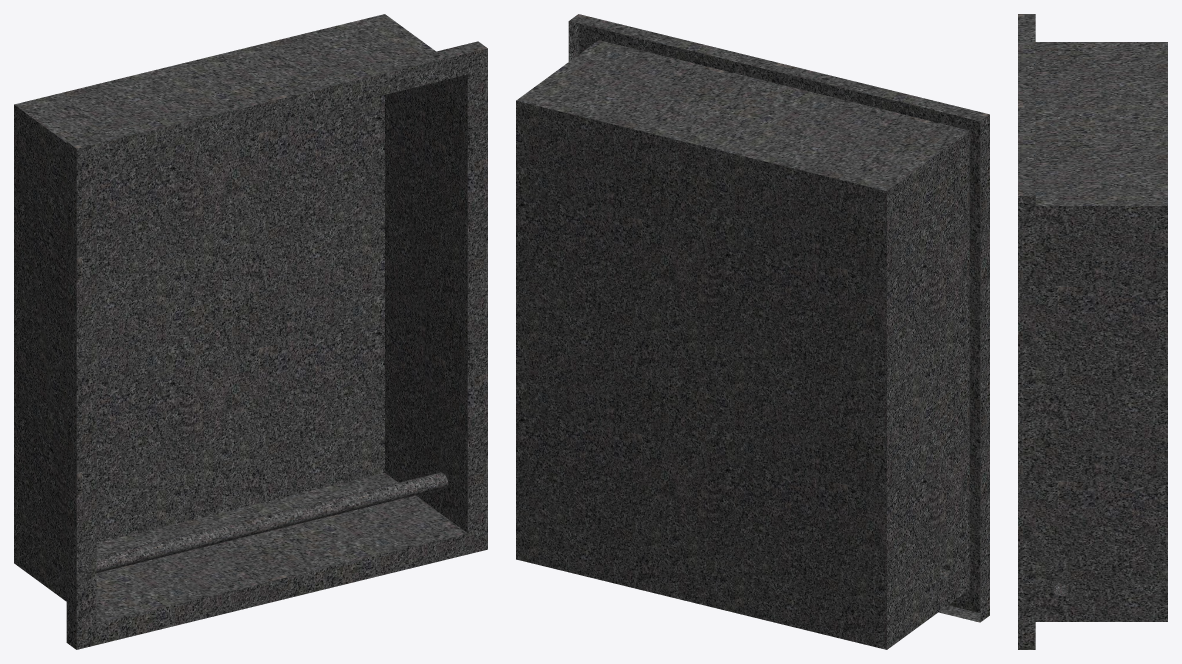
Rendered from wall-niche.glb.
3 views of the same model, side by side, from view 1: azimuth 30°, elevation 25°; view 2: azimuth 150°, elevation 25°; view 3: azimuth 270°, elevation 25° (orthographic). The views are drawn at different scales.
Parts seen in each view (by area): view 1: 3DGeom-1; view 2: 3DGeom-1; view 3: 3DGeom-1.
Part boxes in pixels (x1,y1,x2,y2): 3DGeom-1: (14, 14, 487, 649); 3DGeom-1: (516, 14, 989, 649); 3DGeom-1: (1018, 14, 1167, 649).
Size of the model in its own units: 0.488 by 0.568 by 0.17.
Materials: 1 (1 with a texture image).
